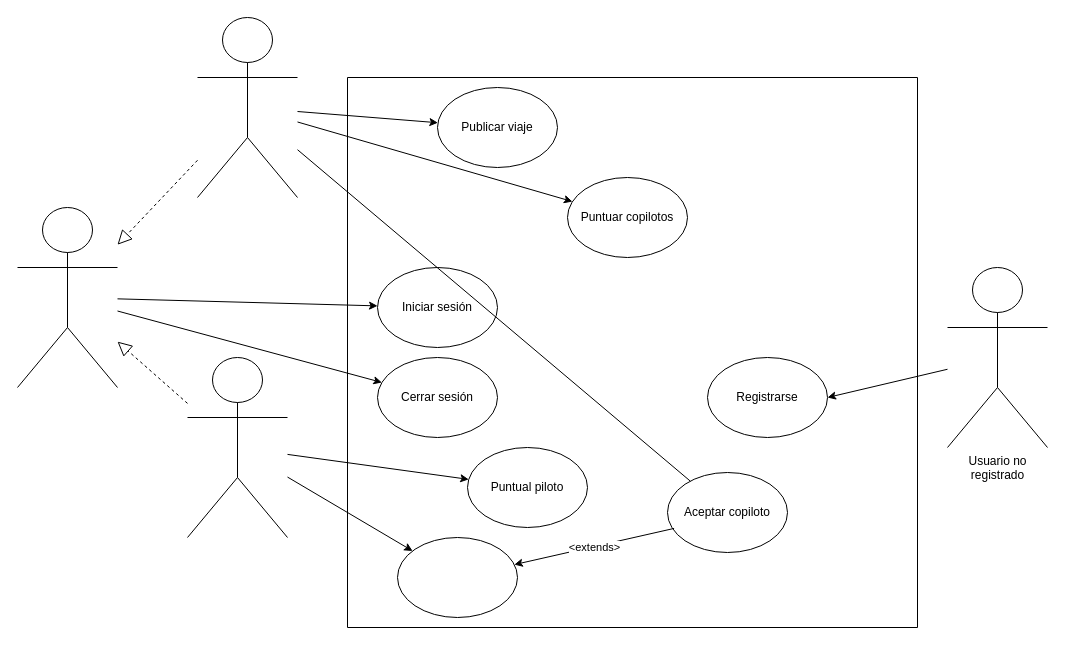
Some shapes in this 1065 by 645 pixel diagram are drawn without their labels. Here are the shapes that lost their labels. From the top down, the centre of each, then its label:
At point (247, 107): "Piloto".
At point (67, 297): "Usuario registrado".
At point (237, 447): "Copiloto".
At point (457, 577): "Postularse a viaje".
